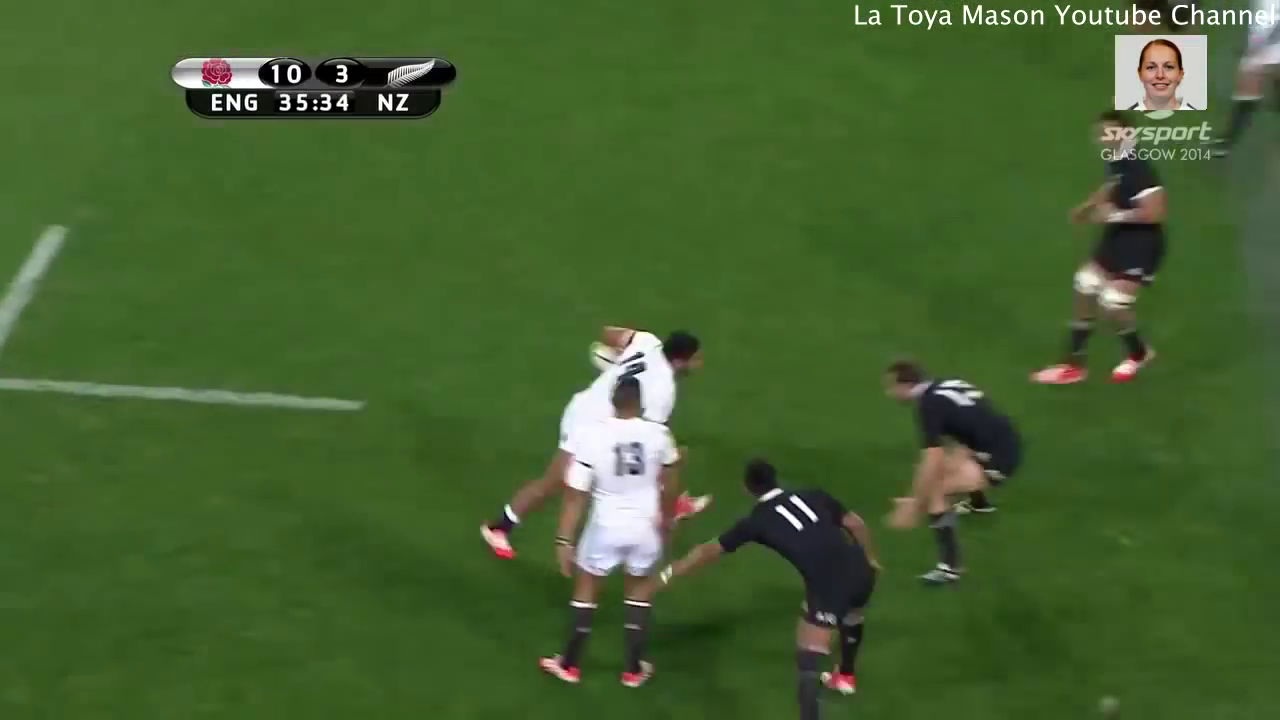ball: (580, 322, 645, 392)
player: (621, 444, 891, 720), (471, 315, 716, 565), (529, 364, 692, 694), (1033, 101, 1181, 411), (861, 347, 1027, 596)
